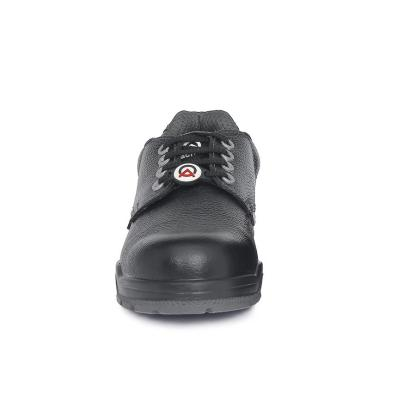bota: (112, 106, 266, 330)
